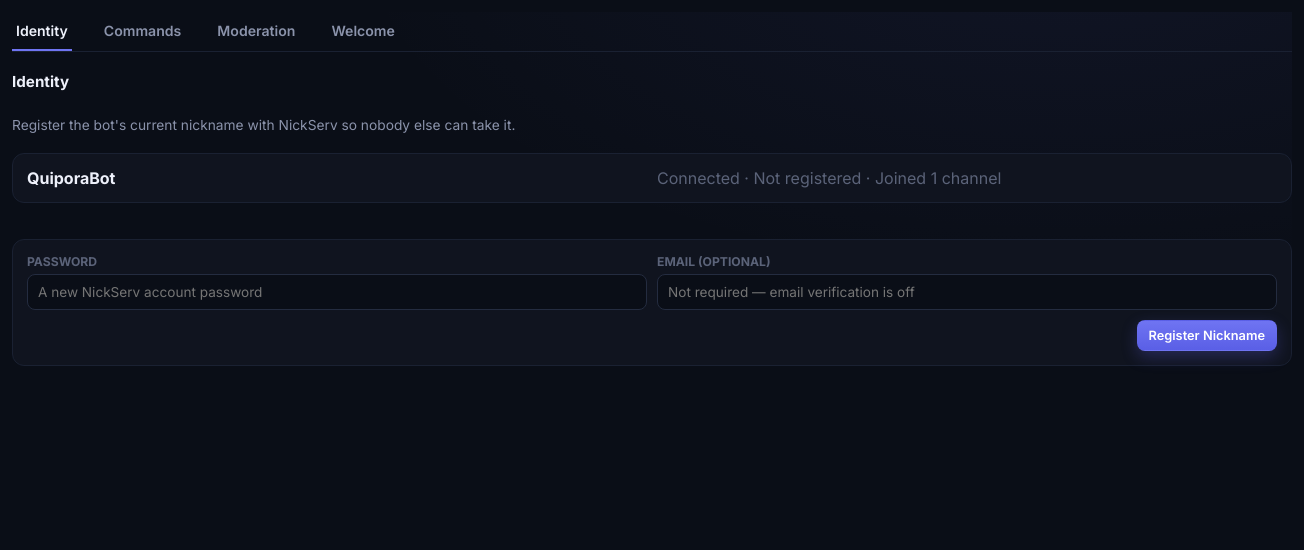
IrcBotSettingsPanel › the Commands tab lists and saves custom commands
Click the tab "Commands".
click(143, 32)  # box [100,12,185,51]
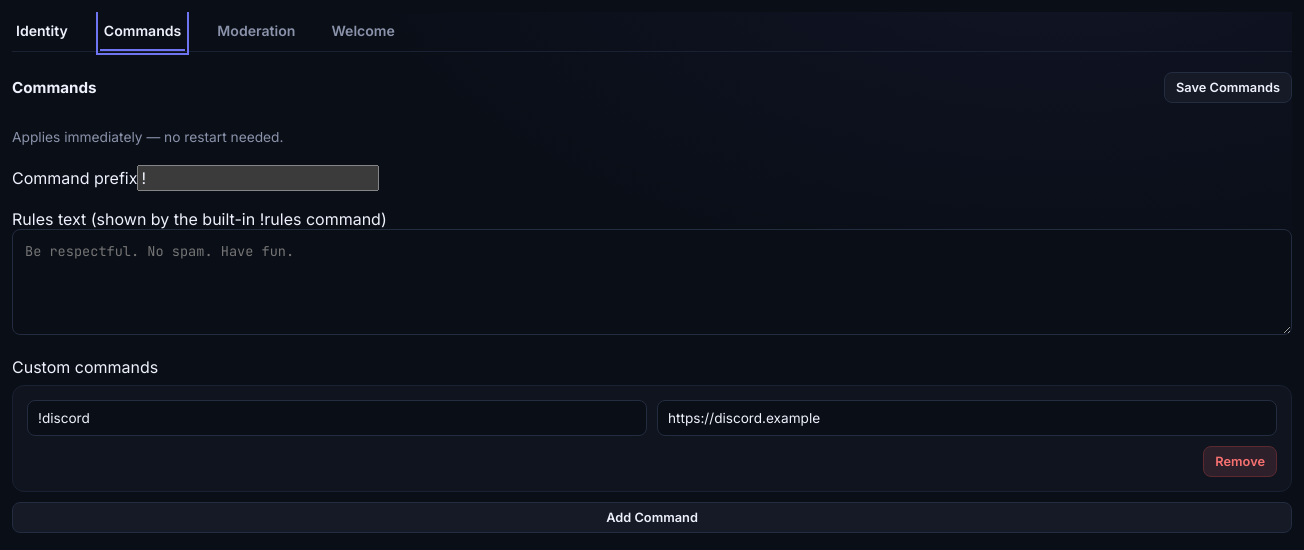
expect the 1st field showing "!discord" is shown: met, box [27,400,647,436]
expect the 2nd field showing "https://discord.example" is shown: met, box [657,400,1277,436]
